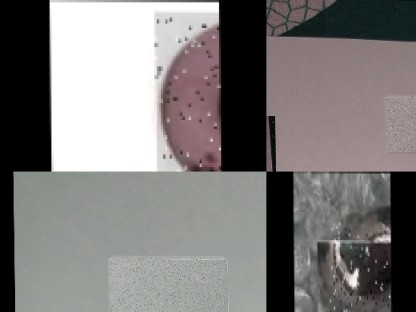ironball: (152, 11, 221, 171), (328, 223, 391, 311), (266, 115, 275, 171)
